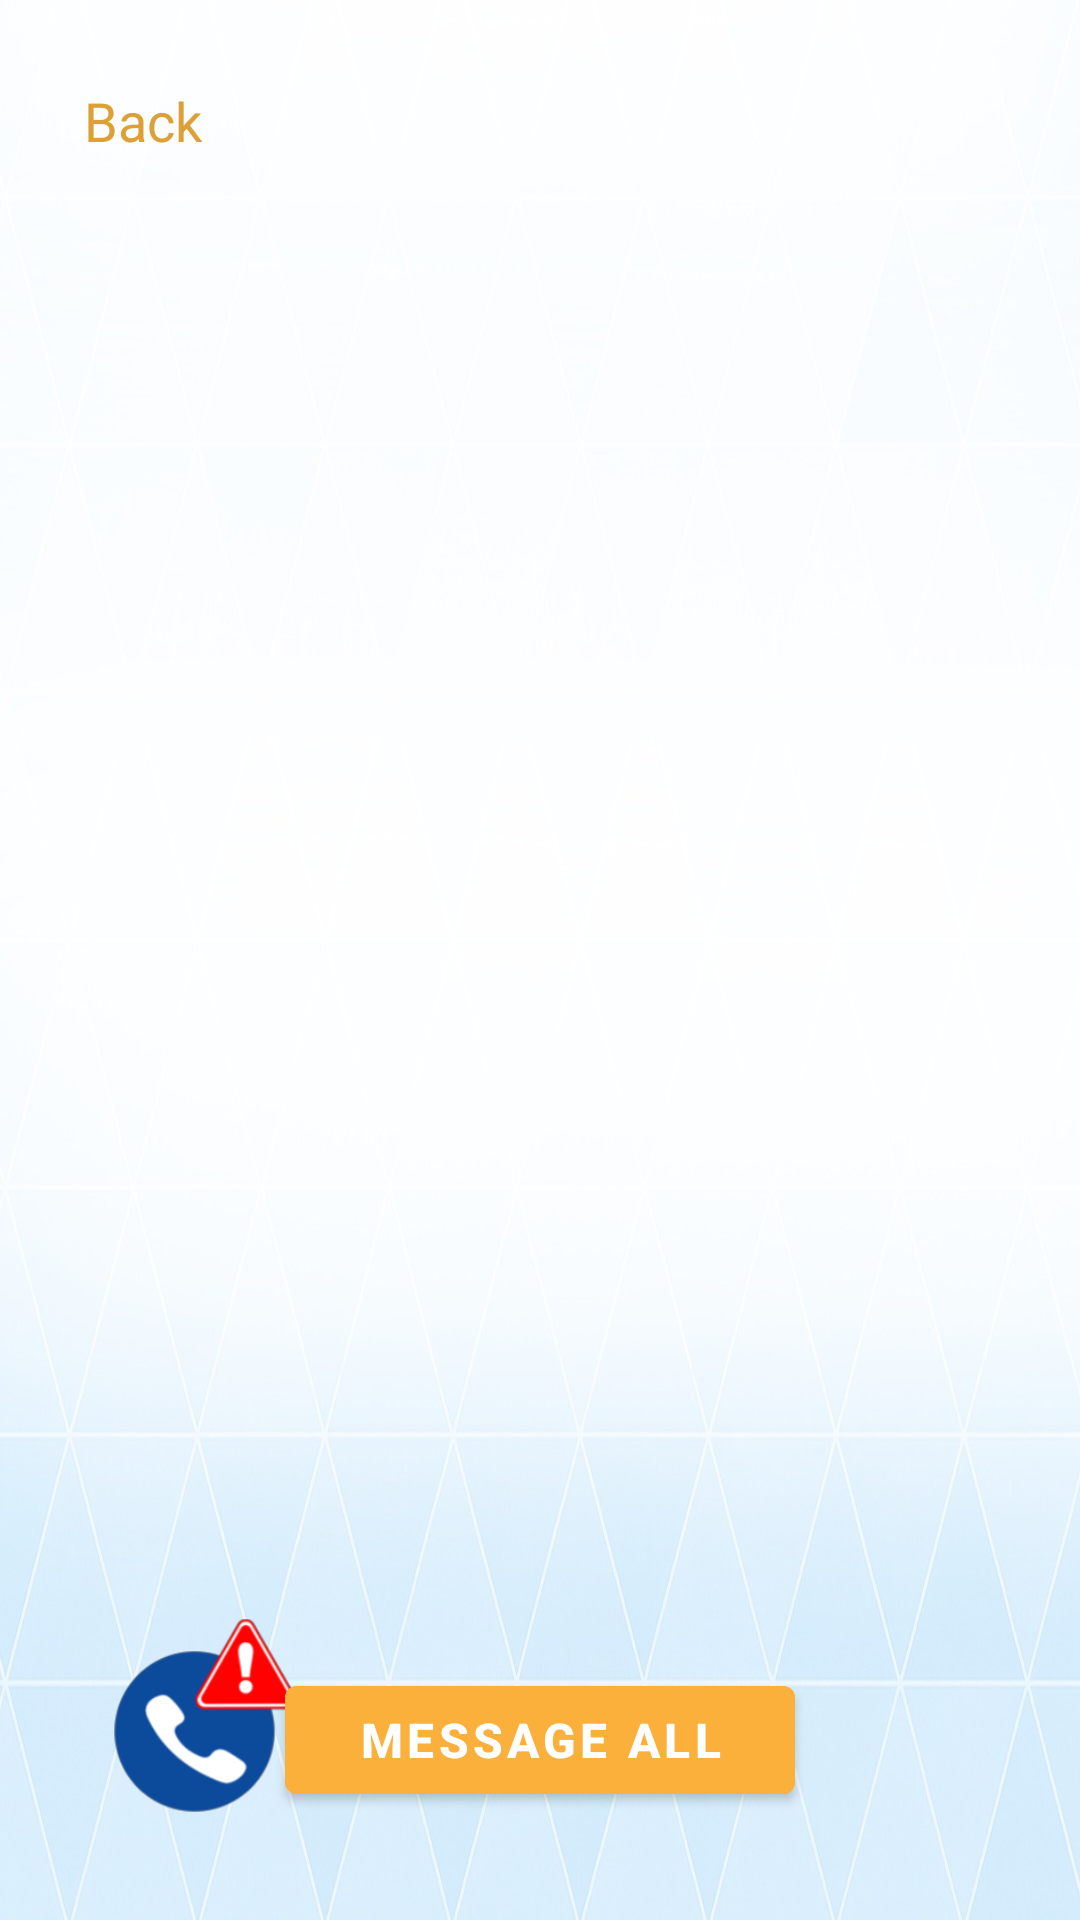

Locate icon controls on the screen. Image size 1080px×1920px, boxes as box(x1, y1, x2, y2).
emergencybutton: box(108, 1618, 303, 1812)
